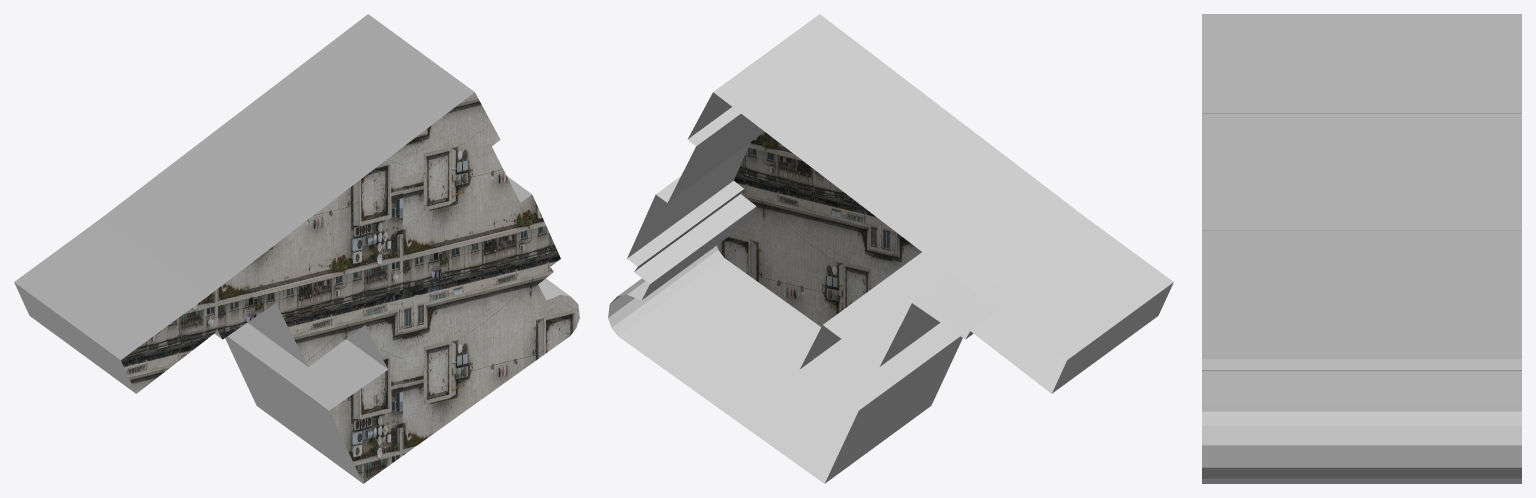
File: geospecific_1487.obj
3 views of the same model, side by side, from view 1: azimuth 30°, elevation 25°; view 2: azimuth 150°, elevation 25°; view 3: azimuth 270°, elevation 25° (orthographic). The views are drawn at different scales.
Parts seen in each view (by area): view 1: Building; view 2: Building; view 3: Building.
Part boxes in pixels (x1,y1,x2,y2): Building: [14, 14, 579, 483]; Building: [608, 14, 1173, 483]; Building: [1202, 14, 1521, 483].
Bounding box in the file's own units: 29.8 × 22.62 × 12.
